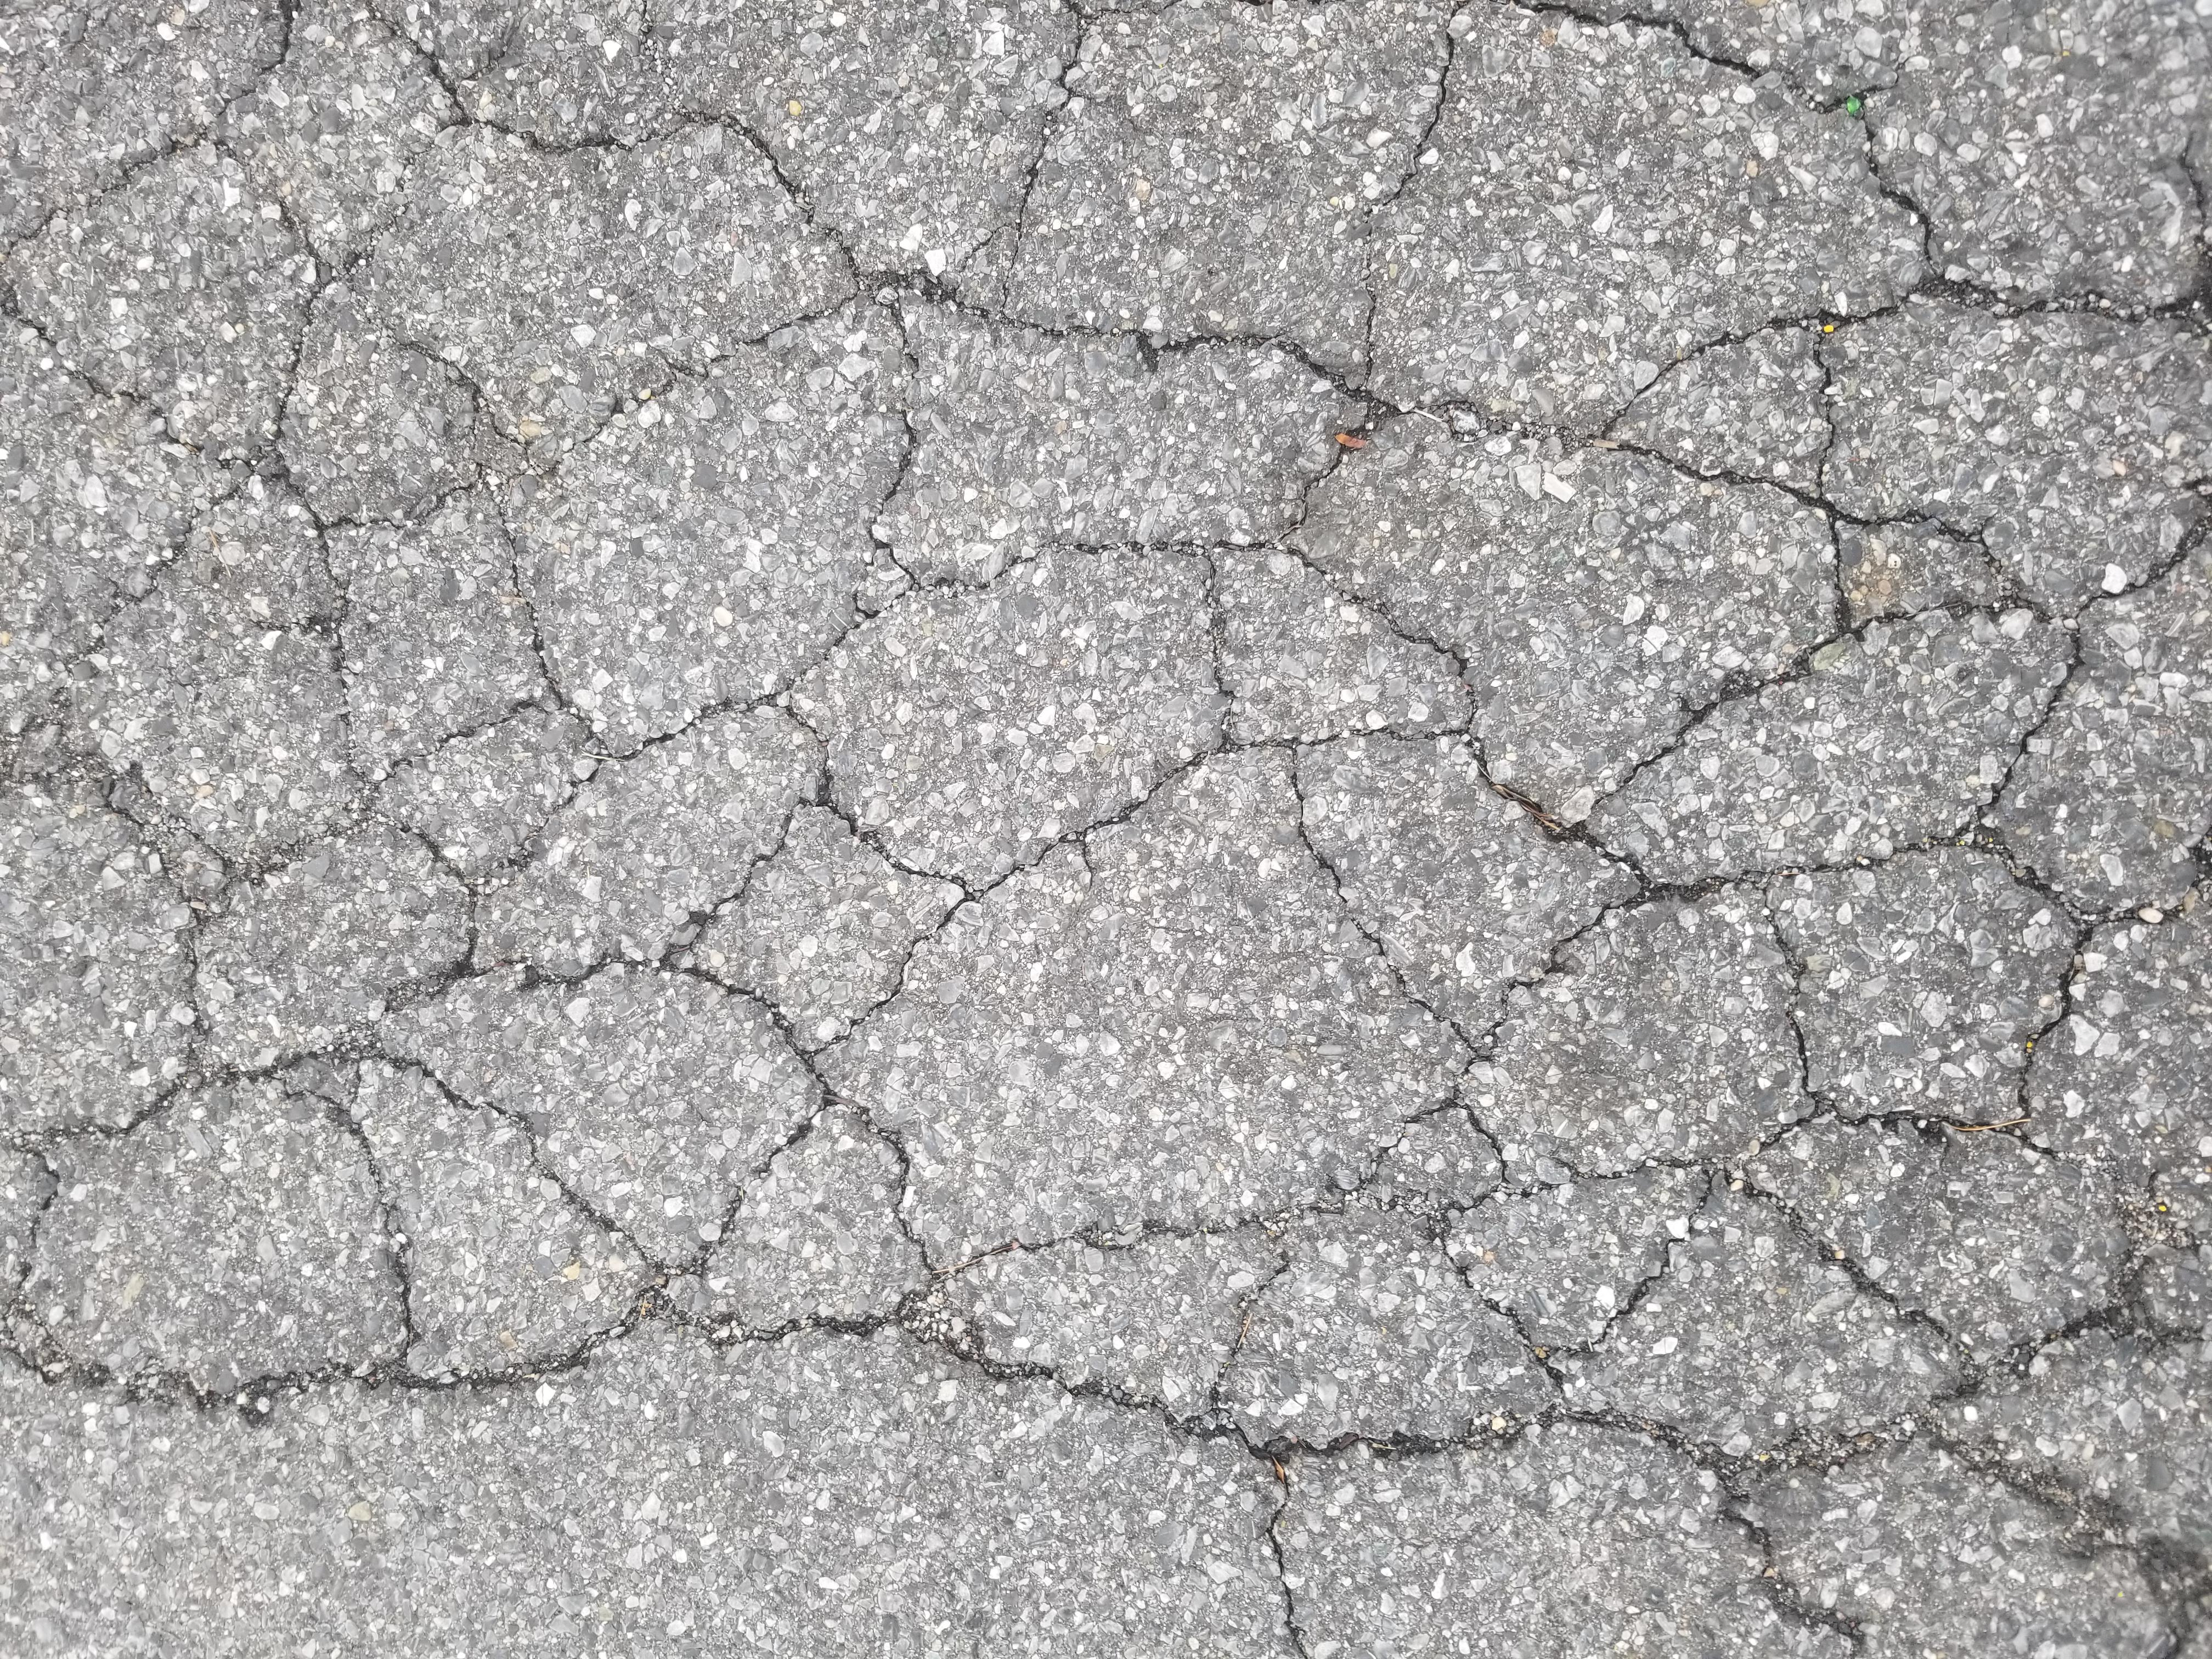alligator-crack: (59, 73, 2114, 1605)
